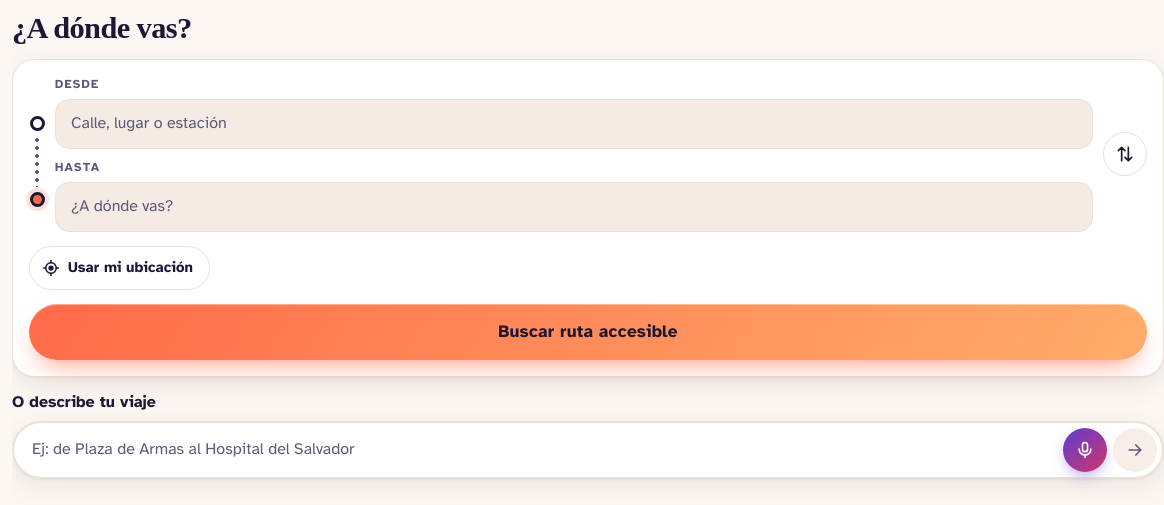
it: SearchForm › works by keyboard: arrows to move, Enter to choose
The width and height of the screenshot is (1164, 505).
In the dropdown labelled "Hasta": (574, 207) [55, 182, 1093, 232], type "Toes"
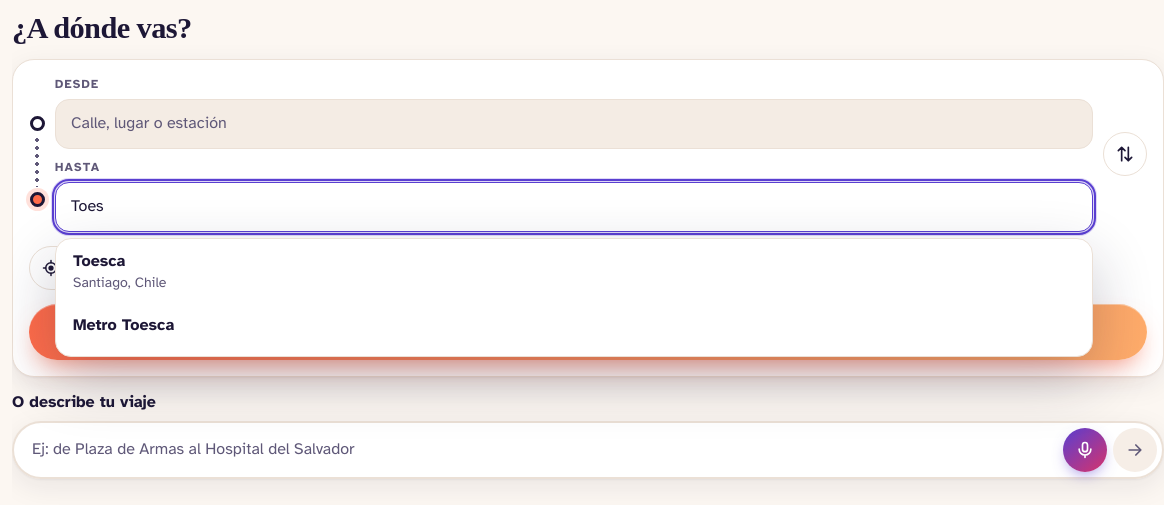
Result: the option "Metro Toesca" is shown at [73, 315, 174, 335]
Press Arrowdown Arrowdown
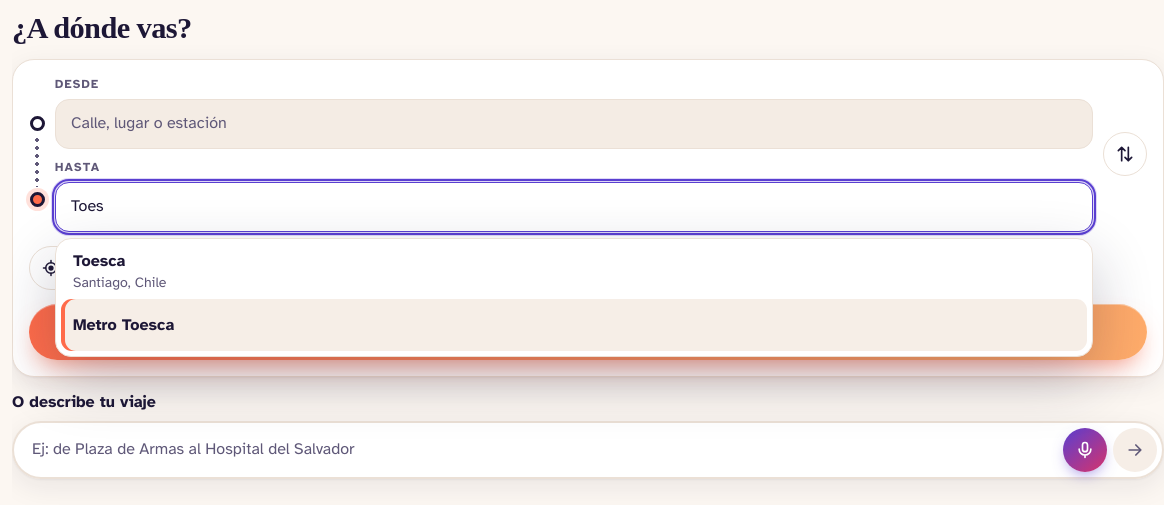
Press Enter
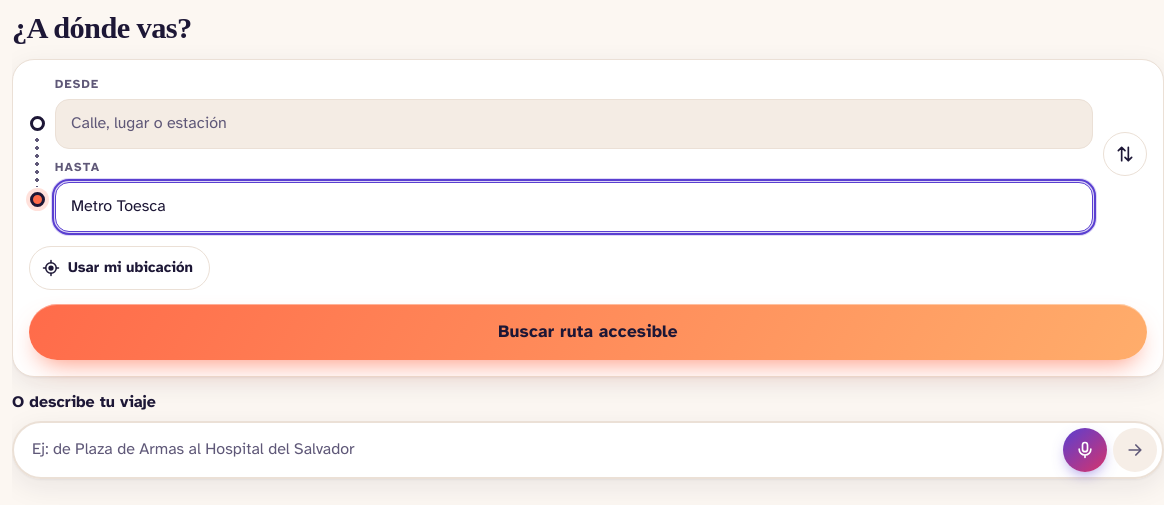
Result: the dropdown labelled "Hasta" holds "Metro Toesca" at [55, 182, 1093, 232]
Result: the option is gone
